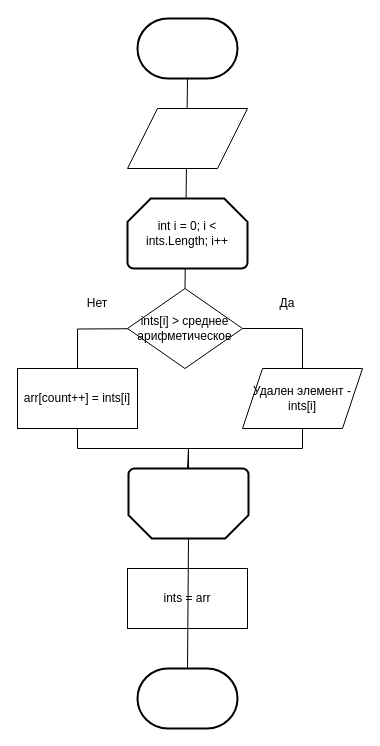
Image size: 380x746. Some labels were removed from this diagram. Here are the shapes that lost their labels. From the top down, the centre of each, then its label:
(x=187, y=48): Начало
(x=187, y=138): Создание массива result arr и счетчика count
(x=187, y=698): Конец
